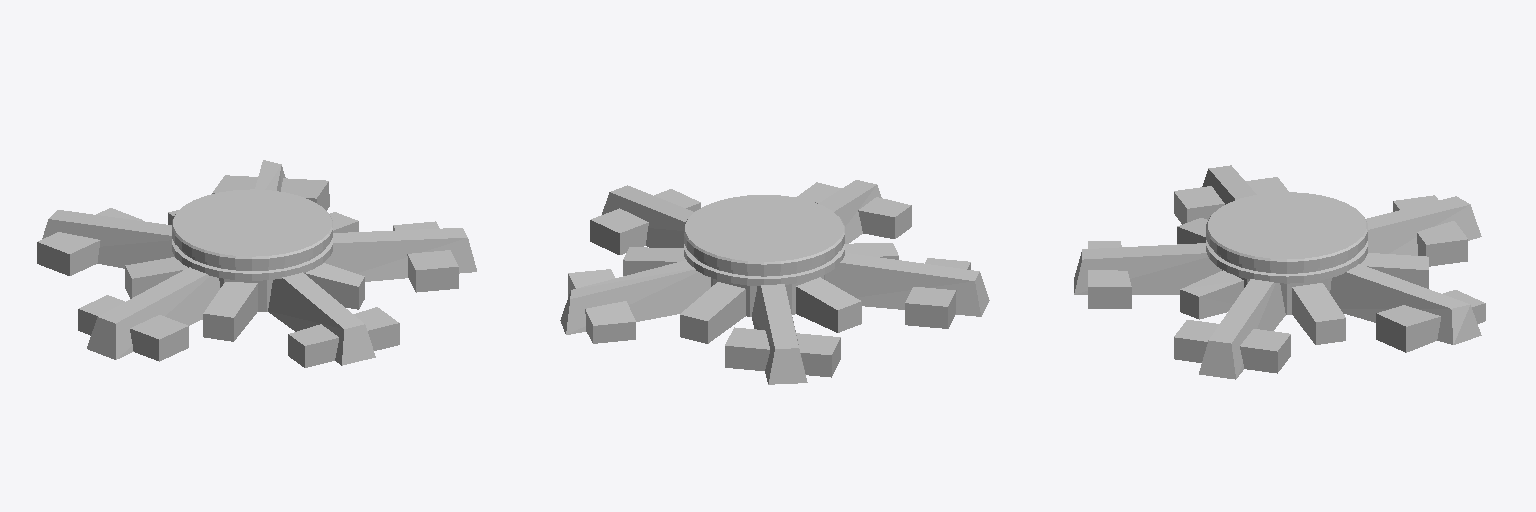
Rendered from flak_base.obj.
The picture shows the model from 3 angles: view 1: azimuth 30°, elevation 25°; view 2: azimuth 150°, elevation 25°; view 3: azimuth 270°, elevation 25°; orthographic projection.
Visible parts, largest first — view 1: FlakCannon_Base_LOD0.001; view 2: FlakCannon_Base_LOD0.001; view 3: FlakCannon_Base_LOD0.001.
Boxes of the visible parts, x1=… form: FlakCannon_Base_LOD0.001: x1=37, y1=160, x2=476, y2=367; FlakCannon_Base_LOD0.001: x1=560, y1=180, x2=989, y2=384; FlakCannon_Base_LOD0.001: x1=1074, y1=165, x2=1485, y2=379.
Bounding box in the file's own units: 12.56 × 1.9 × 11.69.